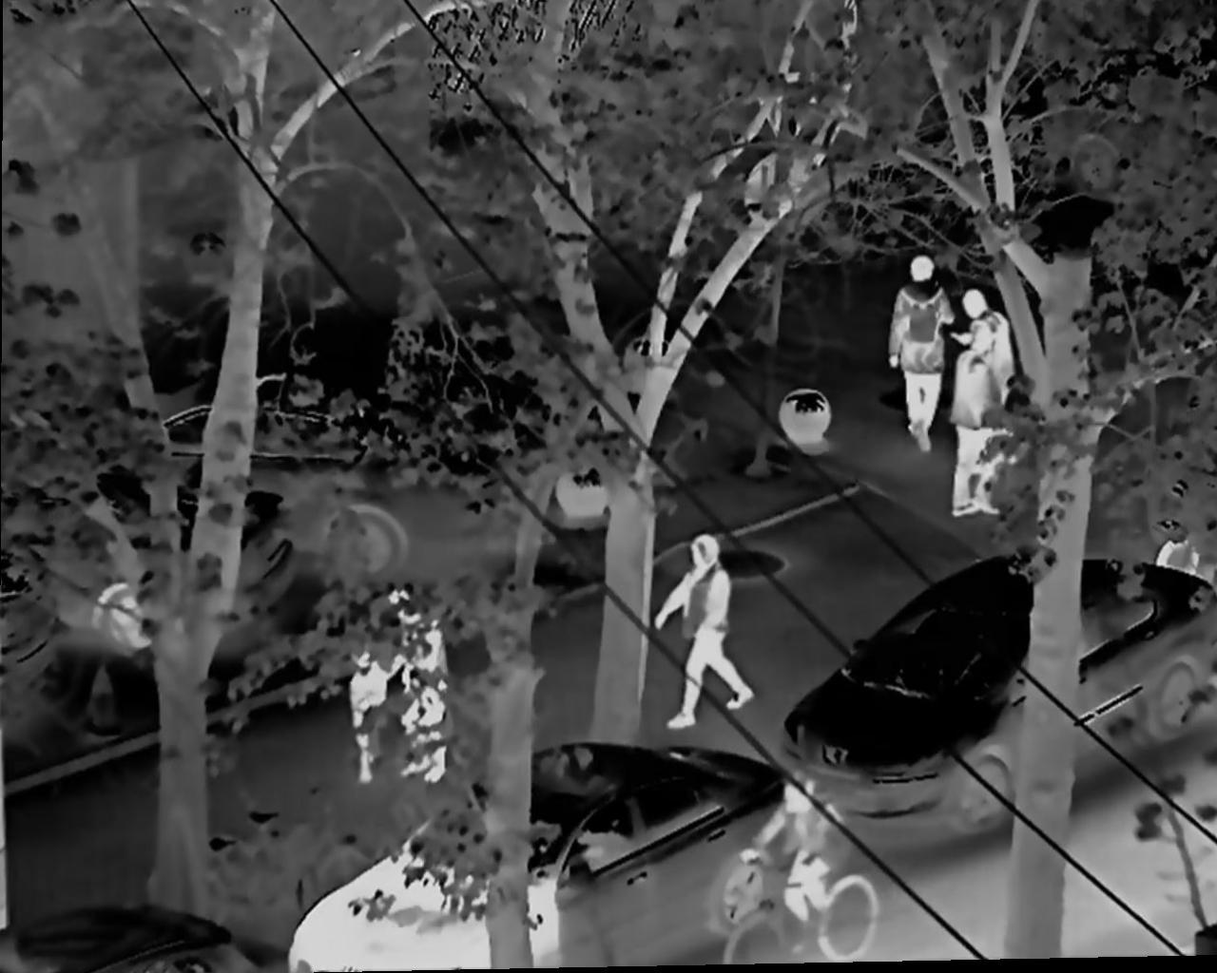person: (650, 534, 759, 729), (739, 778, 848, 929), (387, 591, 460, 792), (950, 286, 1021, 467), (945, 318, 1001, 536), (892, 257, 941, 461), (344, 639, 403, 791)
